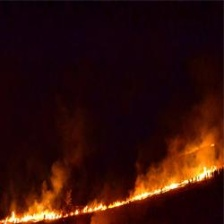fire: (1, 158, 220, 224)
